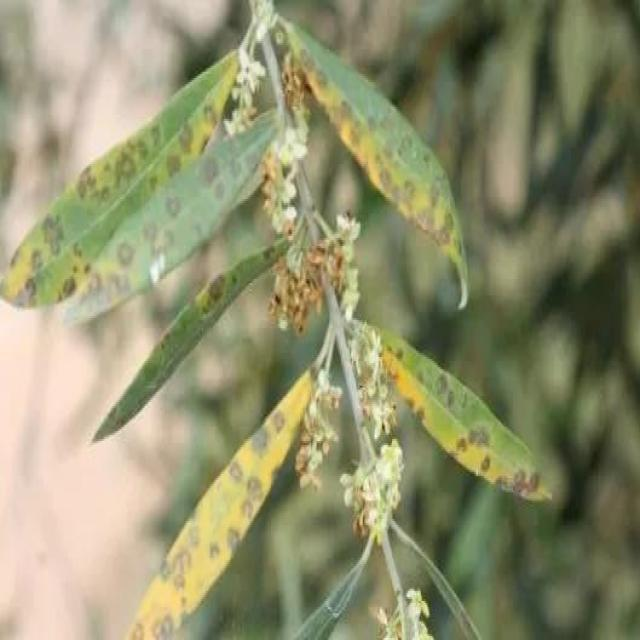OlivePeacockSpot: (0, 52, 237, 304), (282, 19, 467, 308), (125, 369, 314, 638), (63, 109, 278, 320), (93, 232, 283, 439), (374, 326, 550, 496)
